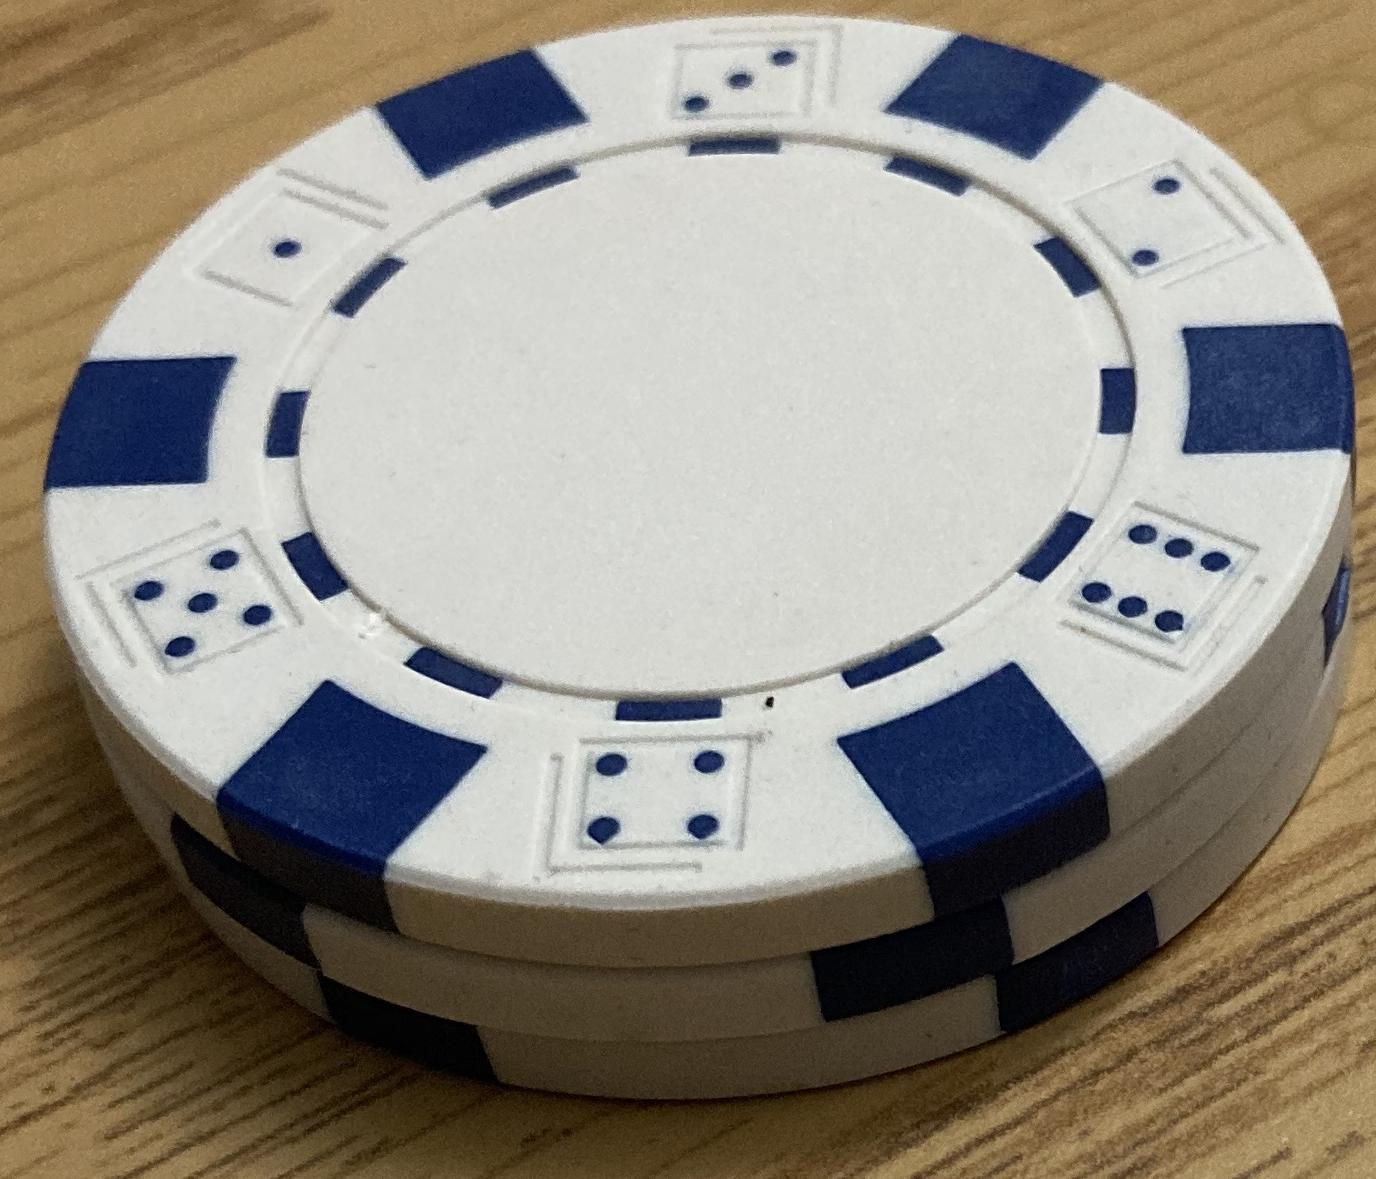Chip: (1, 1, 1376, 1179)
